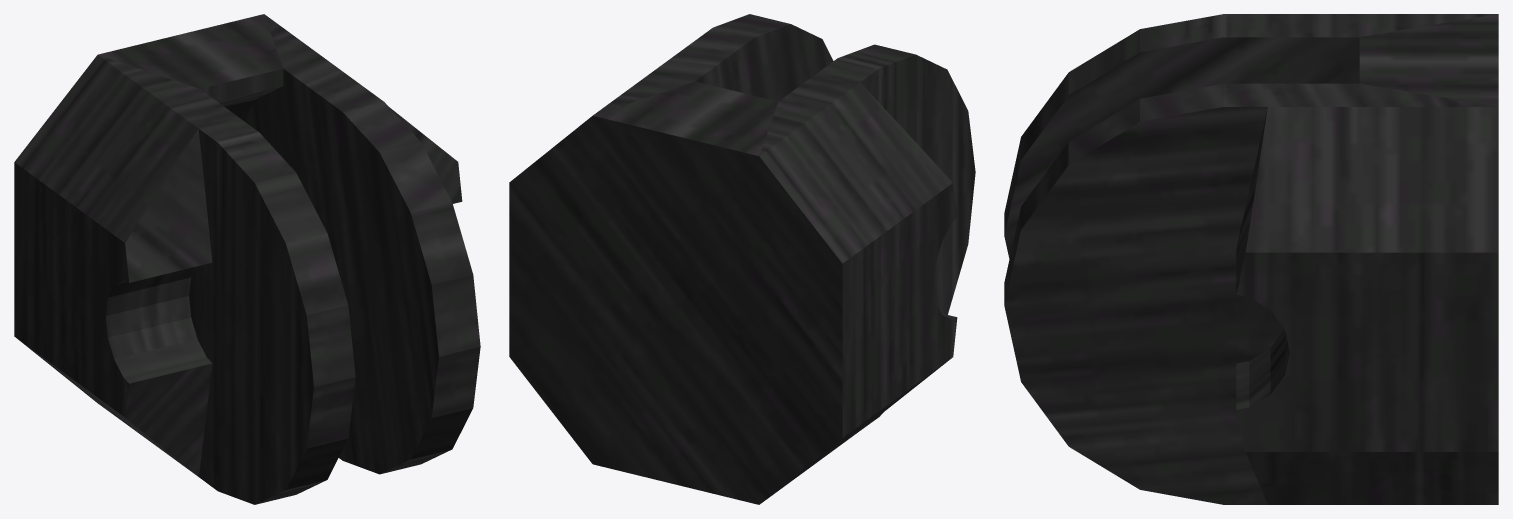
File: metatarsus.dae
3 views of the same model, side by side, from view 1: azimuth 30°, elevation 25°; view 2: azimuth 150°, elevation 25°; view 3: azimuth 270°, elevation 25° (orthographic). The views are drawn at different scales.
Parts seen in each view (by area): view 1: Metatarsus; view 2: Metatarsus; view 3: Metatarsus.
Part boxes in pixels (left/top/right/bottom): Metatarsus: left=14, top=14, right=480, bottom=504; Metatarsus: left=509, top=14, right=975, bottom=504; Metatarsus: left=1004, top=14, right=1498, bottom=504.
Bounding box in the file's own units: 0.16 × 0.18 × 0.16.
1 material, 1 textured.
